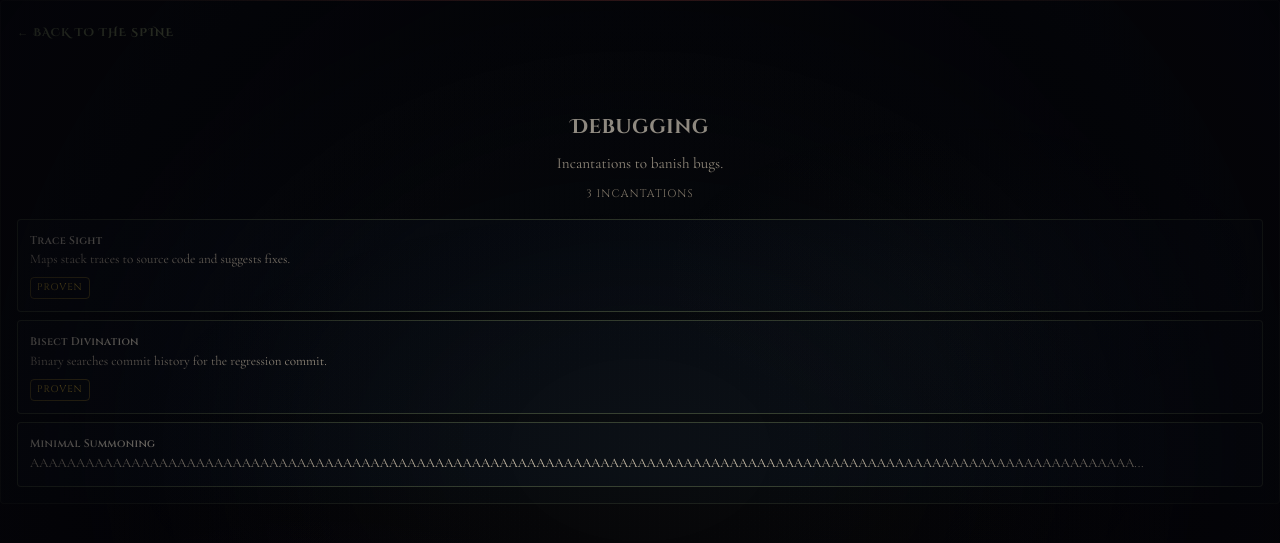
Scenario: SpellDetailView › shows tier from getVote when provided
Click the text "Trace Sight" at (66, 240), box [30, 232, 102, 248]
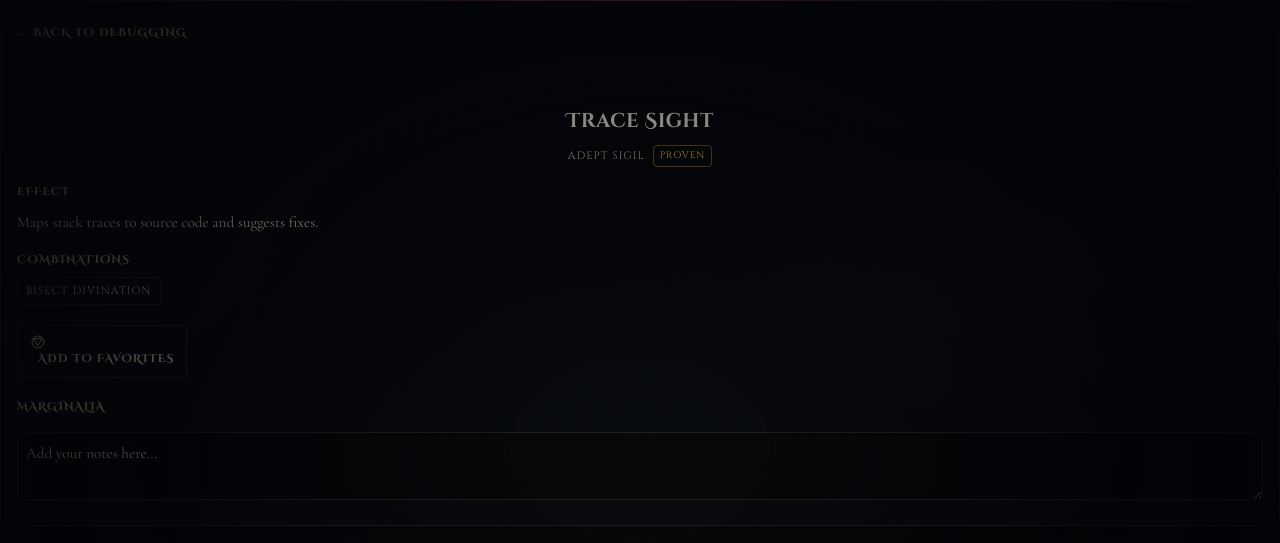
Now the text "Adept Sigil" is shown, box [568, 147, 645, 165]
